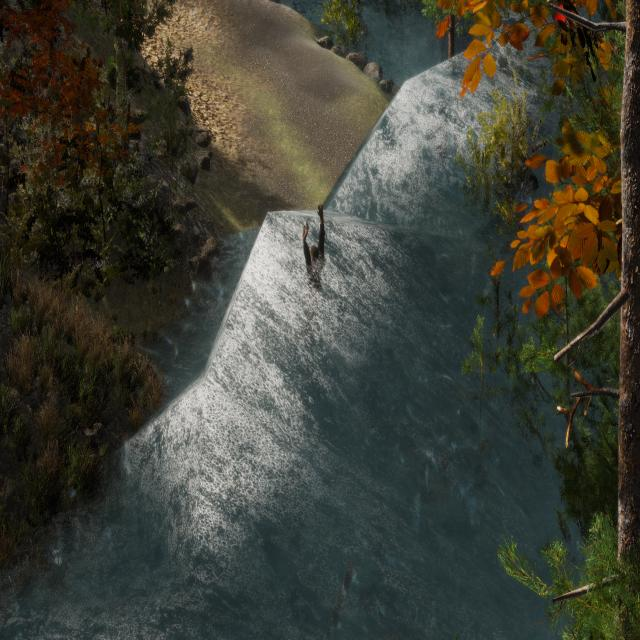Human: (302, 201, 331, 306)
